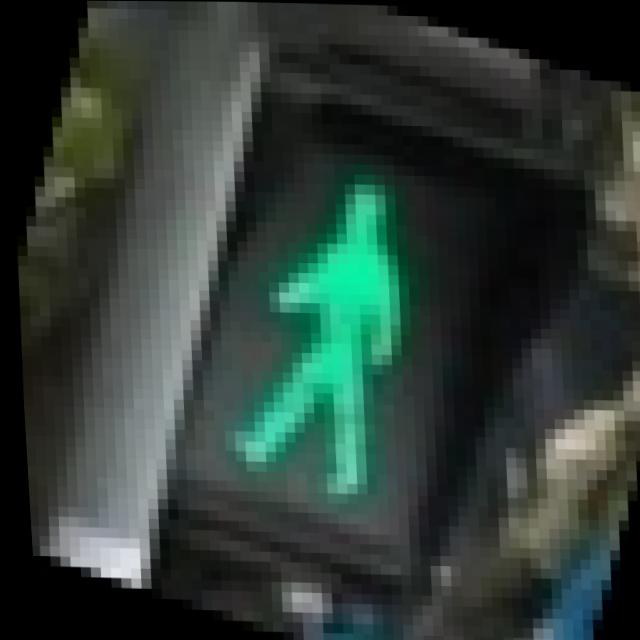green_light: (140, 87, 551, 587)
